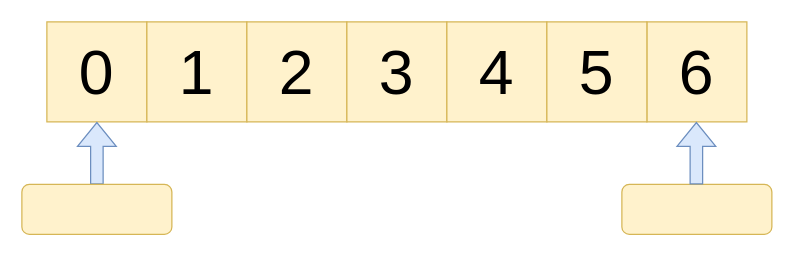
Image size: 794x256. Some labels were removed from this diagram. Each missing label, with the box of its shape:
Erstes Ereignis: (21, 183, 172, 234)
Letztes Ereignis: (621, 183, 772, 234)
